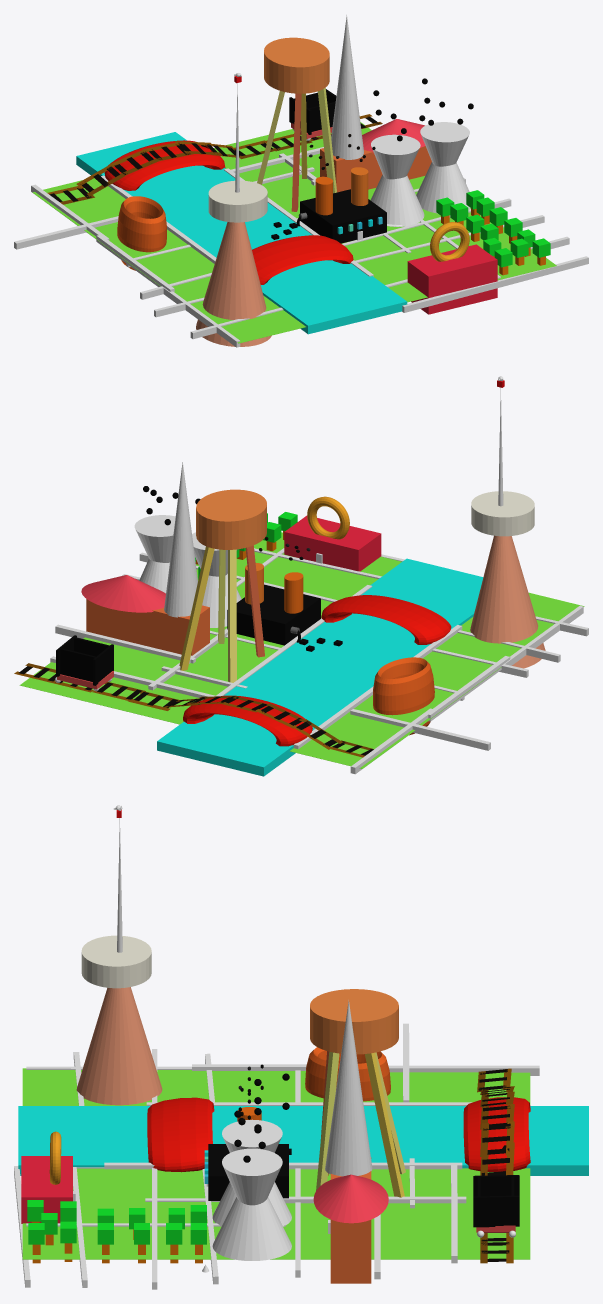
File: aaroncity.glb
The picture shows the model from 3 angles, top to bottom: view 1: azimuth 30°, elevation 25°; view 2: azimuth 150°, elevation 25°; view 3: azimuth 270°, elevation 25°; orthographic projection. The views are drawn at different scales.
Parts seen in each view (by area): view 1: Cube, Cube.026, Cube.065, Cube.066, Cone, Cube.013, Cylinder.005, Torus, Cube.014, Cone.010, Torus.001, Torus.005 (+25 smaller); view 2: Cube.066, Cube.065, Cube.026, Cube, Cone, Cube.082, Cylinder.005, Cube.013, Torus, Torus.001, Cone.010, Cube.014 (+21 smaller); view 3: Cube.065, Cube, Cube.066, Cube.026, Cone, Cylinder.005, Torus, Cone.010, Cone.007, Torus.005, Cylinder.003, Cone.008 (+21 smaller).
Boxes of the visible parts, left/top/right/bottom form: Cube: left=136, top=208, right=556, bottom=343; Cube.026: left=192, top=218, right=407, bottom=334; Cube.065: left=32, top=122, right=424, bottom=267; Cube.066: left=76, top=132, right=288, bottom=239; Cone: left=196, top=222, right=271, bottom=346; Cube.013: left=407, top=244, right=497, bottom=314; Cylinder.005: left=264, top=37, right=329, bottom=93; Torus: left=252, top=235, right=353, bottom=284; Cube.014: left=300, top=189, right=386, bottom=243; Cone.010: left=331, top=15, right=363, bottom=159; Torus.001: left=117, top=196, right=166, bottom=270; Torus.005: left=104, top=140, right=225, bottom=190; Cube.066: left=157, top=650, right=377, bottom=776; Cube.065: left=19, top=626, right=473, bottom=768; Cube.026: left=286, top=558, right=483, bottom=672; Cube: left=196, top=532, right=584, bottom=686; Cone: left=470, top=535, right=545, bottom=668; Cube.082: left=86, top=599, right=209, bottom=655; Cylinder.005: left=196, top=489, right=266, bottom=549; Cube.013: left=284, top=515, right=381, bottom=571; Torus: left=321, top=595, right=451, bottom=644; Torus.001: left=373, top=657, right=434, bottom=735; Cone.010: left=164, top=462, right=197, bottom=617; Cube.014: left=227, top=584, right=320, bottom=645; Cube.065: left=275, top=1071, right=530, bottom=1259; Cube: left=22, top=1068, right=277, bottom=1259; Cube.066: left=301, top=1106, right=588, bottom=1175; Cube.026: left=18, top=1106, right=305, bottom=1175; Cone: left=76, top=987, right=162, bottom=1105; Cylinder.005: left=310, top=989, right=398, bottom=1054; Torus: left=147, top=1097, right=214, bottom=1172; Cone.010: left=325, top=1000, right=372, bottom=1176; Cone.007: left=212, top=1197, right=291, bottom=1260; Torus.005: left=463, top=1097, right=530, bottom=1171; Cylinder.003: left=81, top=935, right=151, bottom=988; Cone.008: left=313, top=1174, right=388, bottom=1223.
Bounding box in the file's own units: 166 × 95.4 × 157.
